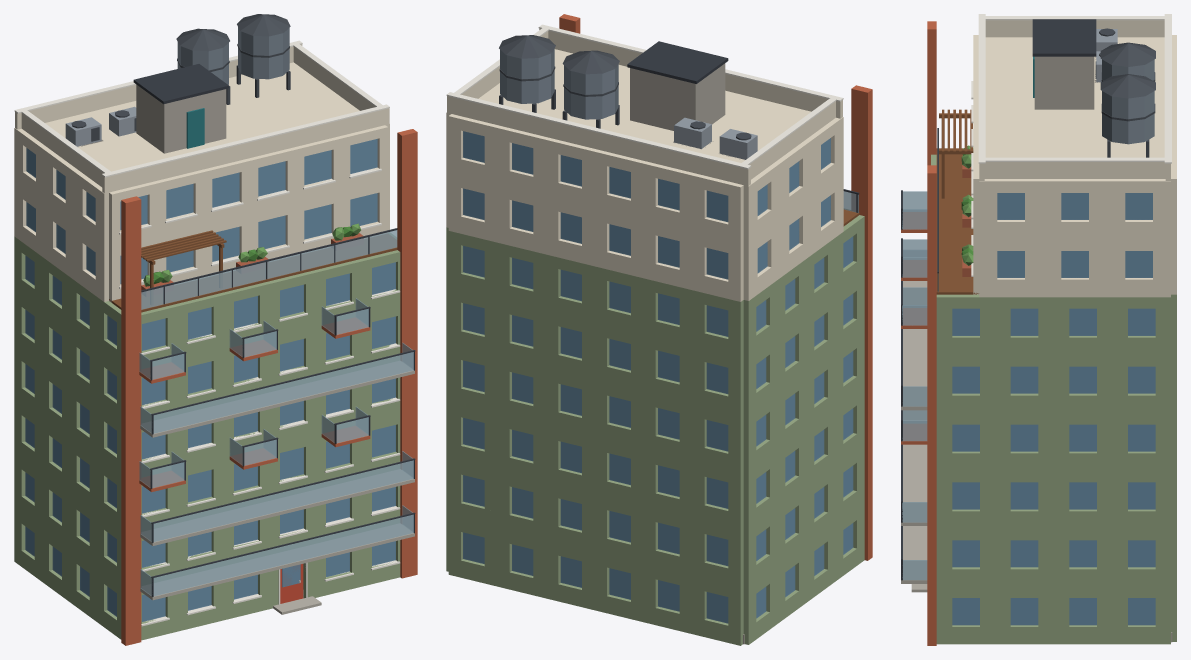
File: BUILDING_04.obj
The picture shows the model from 3 angles, left to right: view 1: azimuth 30°, elevation 25°; view 2: azimuth 150°, elevation 25°; view 3: azimuth 270°, elevation 25°; orthographic projection. The views are drawn at different scales.
Parts seen in each view (by area): view 1: balconies, walls_floor07, walls_floor05, stair_core, roof_equipment, roof, walls_floor03, walls_floor02, walls_floor04, walls_floor01, walls_floor00, walls_core (+13 smaller); view 2: walls_floor05, walls_floor07, walls_floor03, walls_floor04, walls_floor01, walls_floor02, roof_equipment, walls_floor00, walls_floor06, roof, walls_core, stair_core (+8 smaller); view 3: walls_floor05, walls_floor07, walls_core, roof_equipment, walls_floor02, walls_floor04, walls_floor03, walls_floor01, balconies, roof, walls_floor00, walls_floor06 (+12 smaller).
Part boxes in pixels (x1,y1,x2,y2): balconies: (139, 298, 415, 600); walls_floor07: (14, 124, 389, 258); walls_floor05: (14, 233, 400, 379); stair_core: (121, 129, 417, 645); roof_equipment: (65, 14, 290, 153); roof: (14, 40, 389, 193); walls_floor03: (14, 356, 400, 487); walls_floor02: (14, 410, 400, 541); walls_floor04: (14, 301, 400, 433); walls_floor01: (14, 464, 400, 595); walls_floor00: (14, 518, 400, 640); walls_core: (45, 62, 359, 171); walls_floor05: (446, 215, 864, 370); walls_floor07: (446, 112, 843, 255); walls_floor03: (446, 342, 864, 485); walls_floor04: (446, 285, 864, 427); walls_floor01: (446, 457, 864, 599); walls_floor02: (446, 400, 864, 542); roof_equipment: (499, 35, 757, 159); walls_floor00: (446, 514, 864, 645); walls_floor06: (446, 181, 843, 301); roof: (446, 24, 843, 185); walls_core: (478, 49, 811, 162); stair_core: (559, 14, 872, 560); walls_floor05: (931, 154, 1176, 366); walls_floor07: (973, 35, 1176, 250); walls_core: (985, 37, 1164, 157); roof_equipment: (1032, 19, 1155, 157); walls_floor02: (936, 480, 1176, 540); walls_floor04: (936, 364, 1176, 424); walls_floor03: (936, 422, 1176, 482); walls_floor01: (936, 537, 1176, 597); balconies: (901, 190, 927, 583); roof: (978, 14, 1171, 180); walls_floor00: (936, 595, 1176, 644); walls_floor06: (973, 246, 1176, 297).
Size of the model in its own units: 16.9 by 28 by 12.96.
